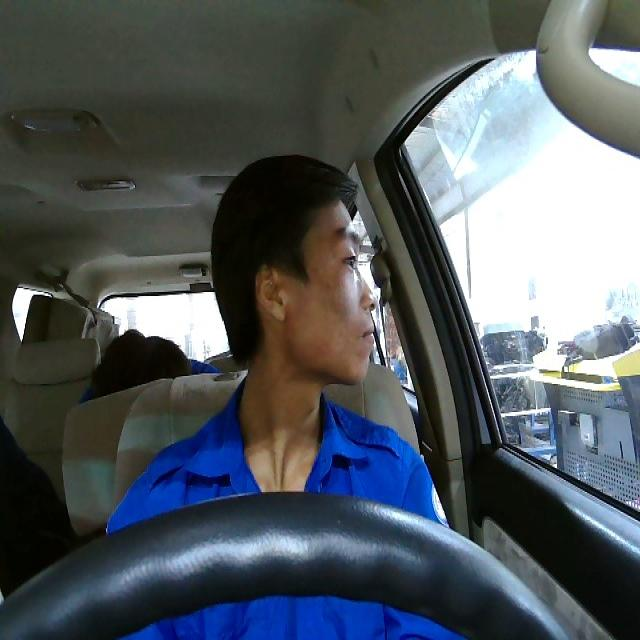seeing_right: (250, 196, 378, 387)
